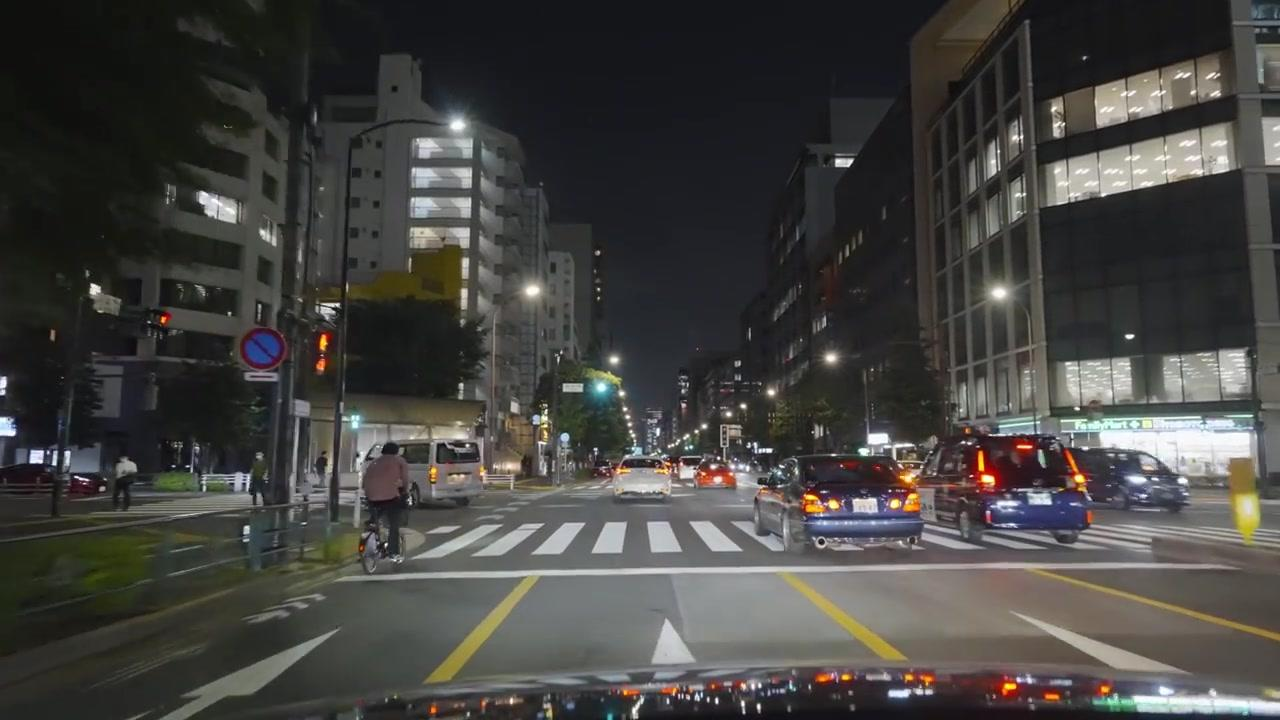bicycle: (358, 517, 404, 573)
bus: (357, 437, 485, 508)
car: (916, 432, 1094, 547), (751, 453, 925, 554), (1073, 448, 1192, 513), (613, 457, 673, 503), (0, 463, 60, 487), (693, 460, 738, 490), (64, 472, 106, 497)
person: (362, 441, 412, 562), (112, 452, 137, 511), (248, 450, 269, 508), (190, 442, 202, 493), (314, 450, 328, 483)
traffic light: (311, 329, 334, 376), (147, 308, 174, 334), (588, 379, 615, 400), (48, 326, 60, 344)
truck: (356, 437, 486, 509)
